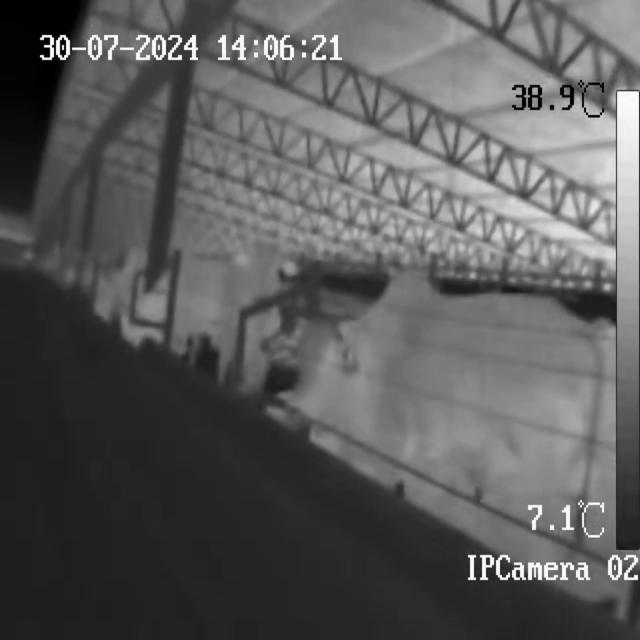eye: (318, 344, 338, 371)
head: (283, 317, 357, 411)
